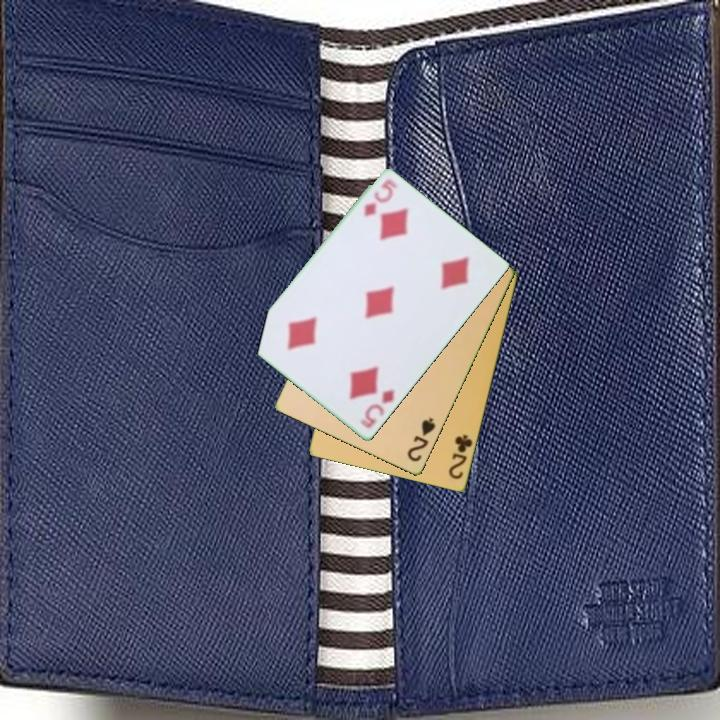2c: (445, 431, 476, 482)
2s: (404, 414, 439, 465)
5d: (356, 386, 398, 432), (360, 176, 401, 220)
